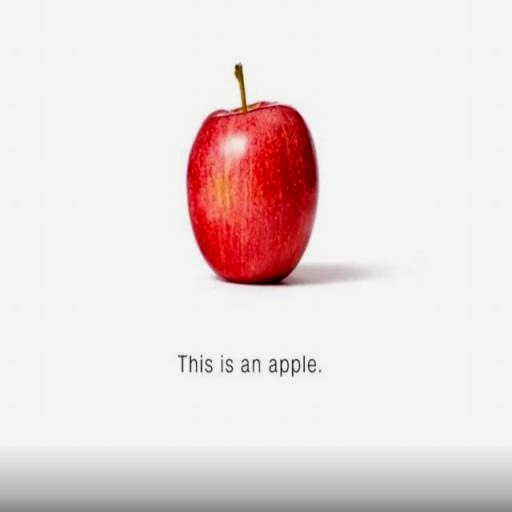fruit: (90, 94, 288, 340)
